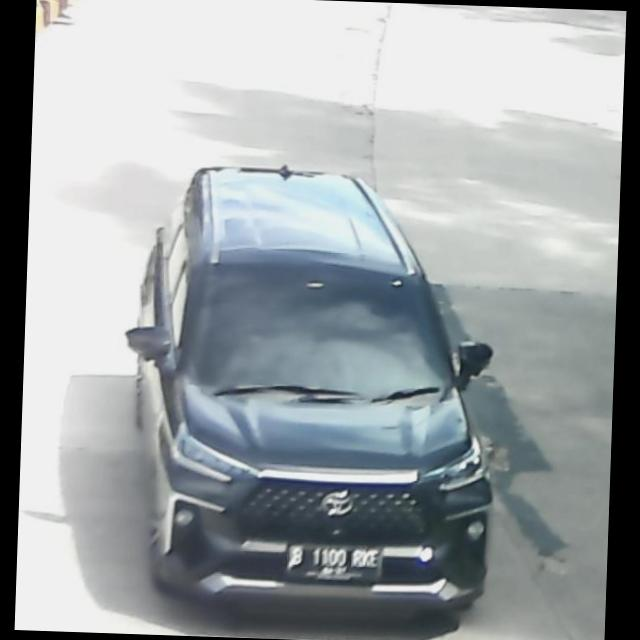plate: (285, 539, 391, 587)
